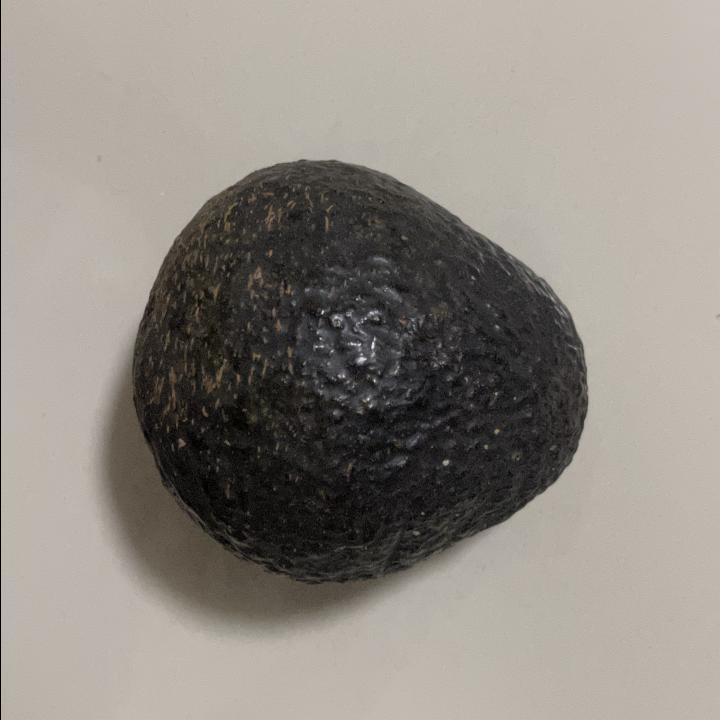Level2: (127, 152, 593, 596)
